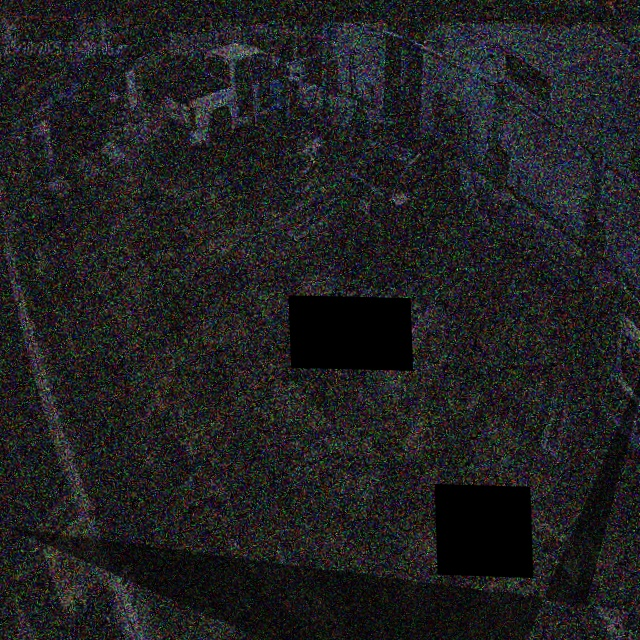Car: (338, 125, 462, 262)
